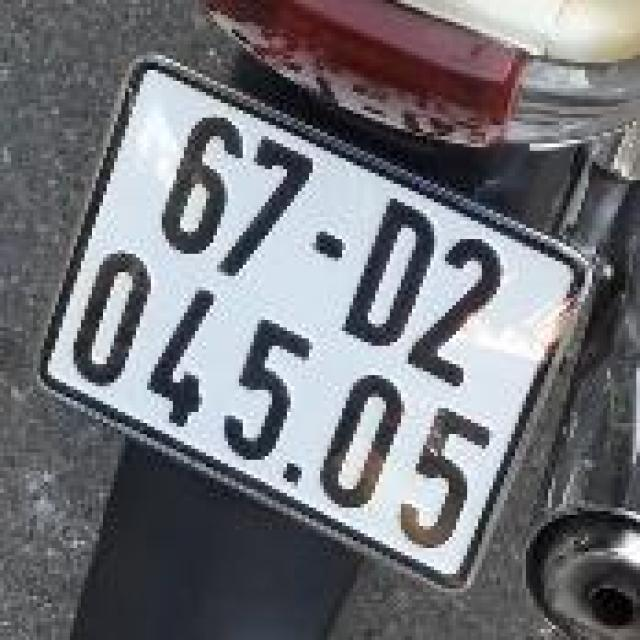0: (307, 360, 425, 520), (63, 239, 164, 394)
2: (396, 223, 535, 401)
4: (131, 274, 252, 436)
5: (203, 305, 330, 474), (385, 395, 508, 566)
6: (151, 107, 262, 270)
7: (199, 127, 333, 294)
D: (333, 186, 455, 362)
